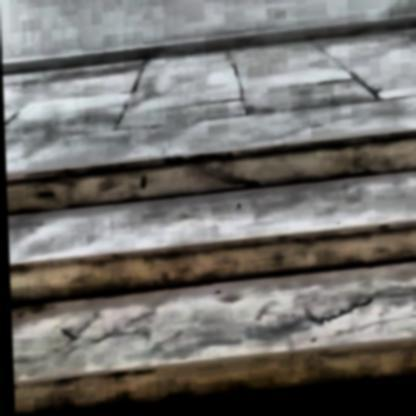stair: (0, 124, 416, 416)
